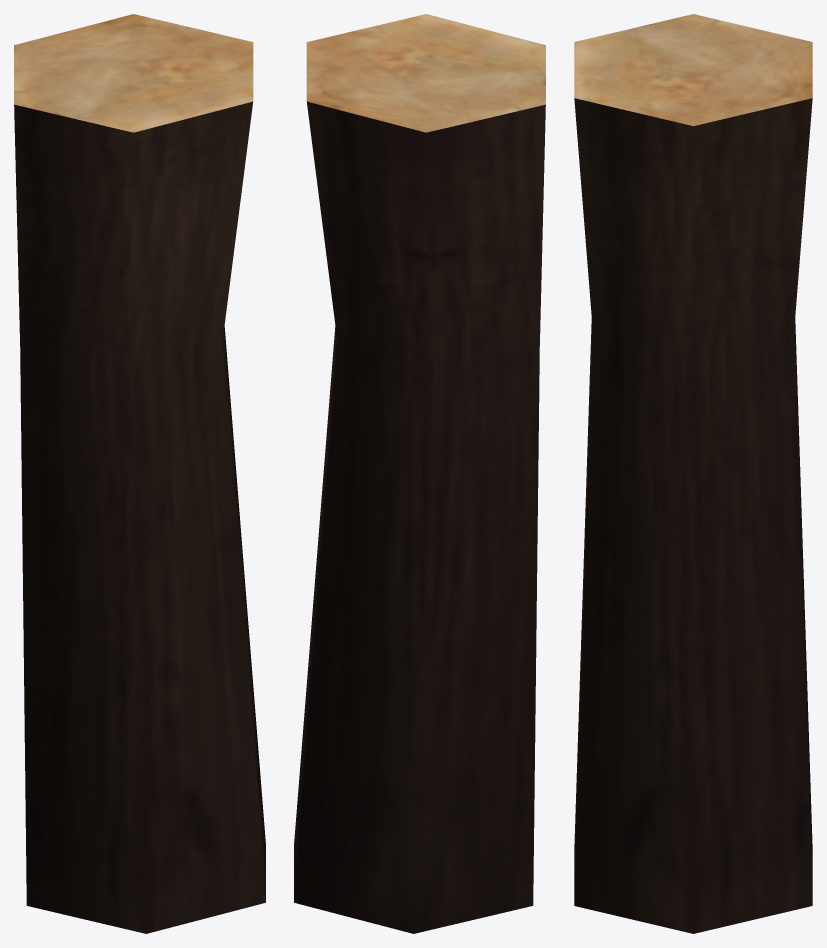
The model's file is Wood_Log.fbx.
The picture shows the model from 3 angles, left to right: view 1: azimuth 30°, elevation 25°; view 2: azimuth 150°, elevation 25°; view 3: azimuth 270°, elevation 25°; orthographic projection.
Visible parts, largest first — view 1: Wood_Log; view 2: Wood_Log; view 3: Wood_Log.
Boxes of the visible parts, x1,y1,x2,y2 form: Wood_Log: [14, 14, 265, 933]; Wood_Log: [294, 14, 545, 933]; Wood_Log: [574, 14, 812, 933].
Size of the model in its own units: 2.26 by 6.95 by 1.86.
